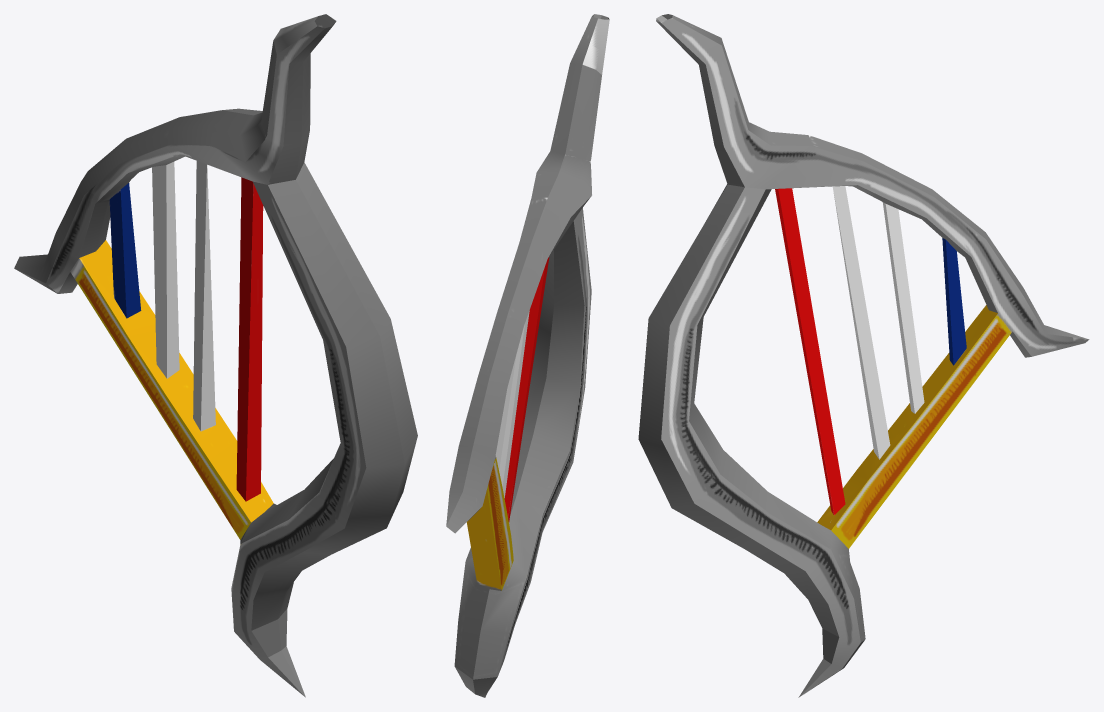
The model's file is Arpa1_000019.obj.
3 views of the same model, side by side, from view 1: azimuth 30°, elevation 25°; view 2: azimuth 150°, elevation 25°; view 3: azimuth 270°, elevation 25° (orthographic). The views are drawn at different scales.
Parts seen in each view (by area): view 1: a1_pCube7.001; view 2: a1_pCube7.001; view 3: a1_pCube7.001.
Boxes of the visible parts, bbox=[...] form: a1_pCube7.001: bbox=[14, 14, 417, 697]; a1_pCube7.001: bbox=[446, 14, 609, 697]; a1_pCube7.001: bbox=[638, 14, 1089, 697].
Bounding box in the file's own units: 2.45 × 10.52 × 6.54.
